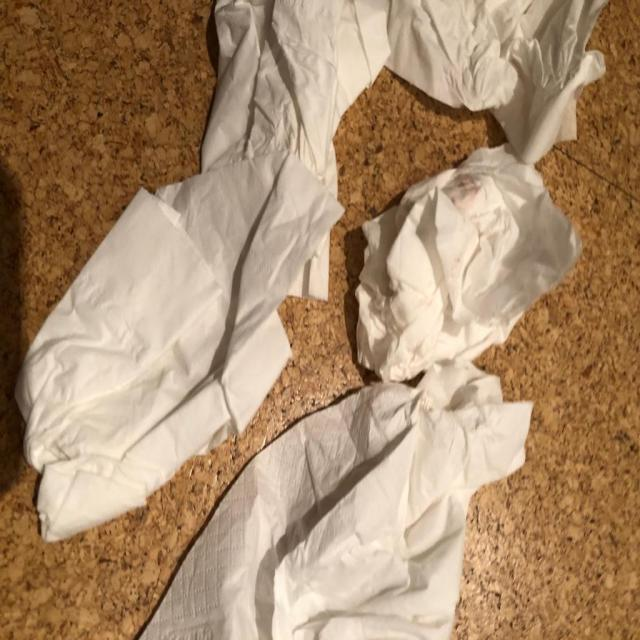kitchen paper: (10, 146, 348, 542), (135, 368, 536, 640), (194, 0, 378, 305), (349, 146, 585, 379), (384, 0, 608, 163)
